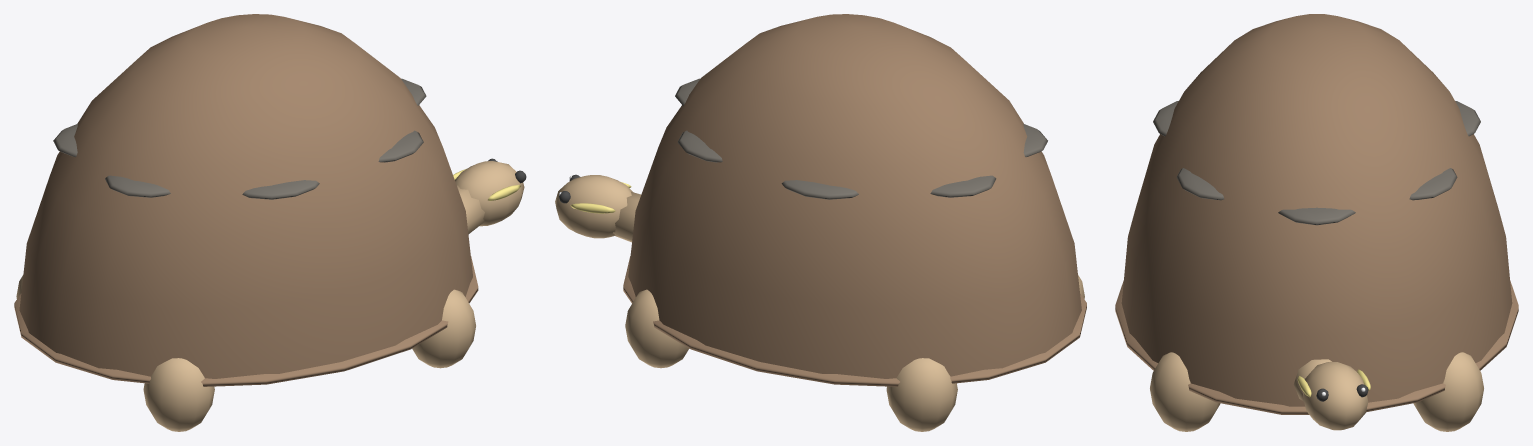
File: yellow-margined-box-turtle.glb
3 views of the same model, side by side, from view 1: azimuth 30°, elevation 25°; view 2: azimuth 150°, elevation 25°; view 3: azimuth 270°, elevation 25° (orthographic). The views are drawn at different scales.
Parts seen in each view (by area): view 1: e, e.012; view 2: e, e.012; view 3: e, e.012.
Boxes of the visible parts, x1,y1,x2,y2 form: e: (14, 14, 478, 431); e.012: (453, 158, 526, 234); e: (623, 14, 1086, 431); e.012: (555, 174, 640, 242); e: (1115, 14, 1518, 431); e.012: (1293, 359, 1370, 430).
Bounding box in the file's own units: 1.44 × 0.9 × 0.9898.
